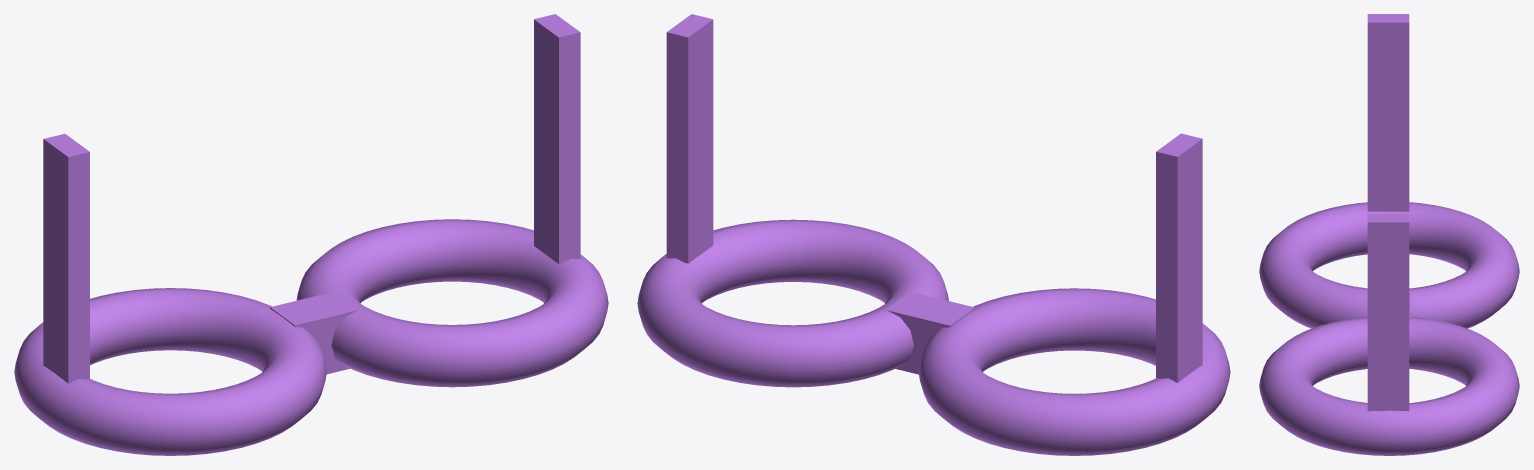
File: glasses.fbx
The picture shows the model from 3 angles, left to right: view 1: azimuth 30°, elevation 25°; view 2: azimuth 150°, elevation 25°; view 3: azimuth 270°, elevation 25°; orthographic projection. The views are drawn at different scales.
Parts seen in each view (by area): view 1: Torus.001, Torus, Cube.001, Cube, Cube.002; view 2: Torus.001, Torus, Cube.001, Cube, Cube.002; view 3: Torus.001, Torus, Cube.001, Cube.
Boxes of the visible parts, x1=… form: Torus.001: x1=296, y1=219, x2=608, y2=387; Torus: x1=14, y1=288, x2=326, y2=455; Cube.001: x1=534, y1=14, x2=580, y2=263; Cube: x1=43, y1=133, x2=89, y2=383; Cube.002: x1=270, y1=291, x2=359, y2=374; Torus.001: x1=637, y1=219, x2=948, y2=387; Torus: x1=918, y1=288, x2=1230, y2=455; Cube.001: x1=666, y1=14, x2=713, y2=263; Cube: x1=1156, y1=133, x2=1202, y2=382; Cube.002: x1=886, y1=291, x2=975, y2=374; Torus.001: x1=1259, y1=317, x2=1519, y2=455; Torus: x1=1259, y1=202, x2=1519, y2=328; Cube.001: x1=1367, y1=213, x2=1409, y2=411; Cube: x1=1367, y1=14, x2=1409, y2=211.
Size of the model in its own units: 510 by 248 by 250.
